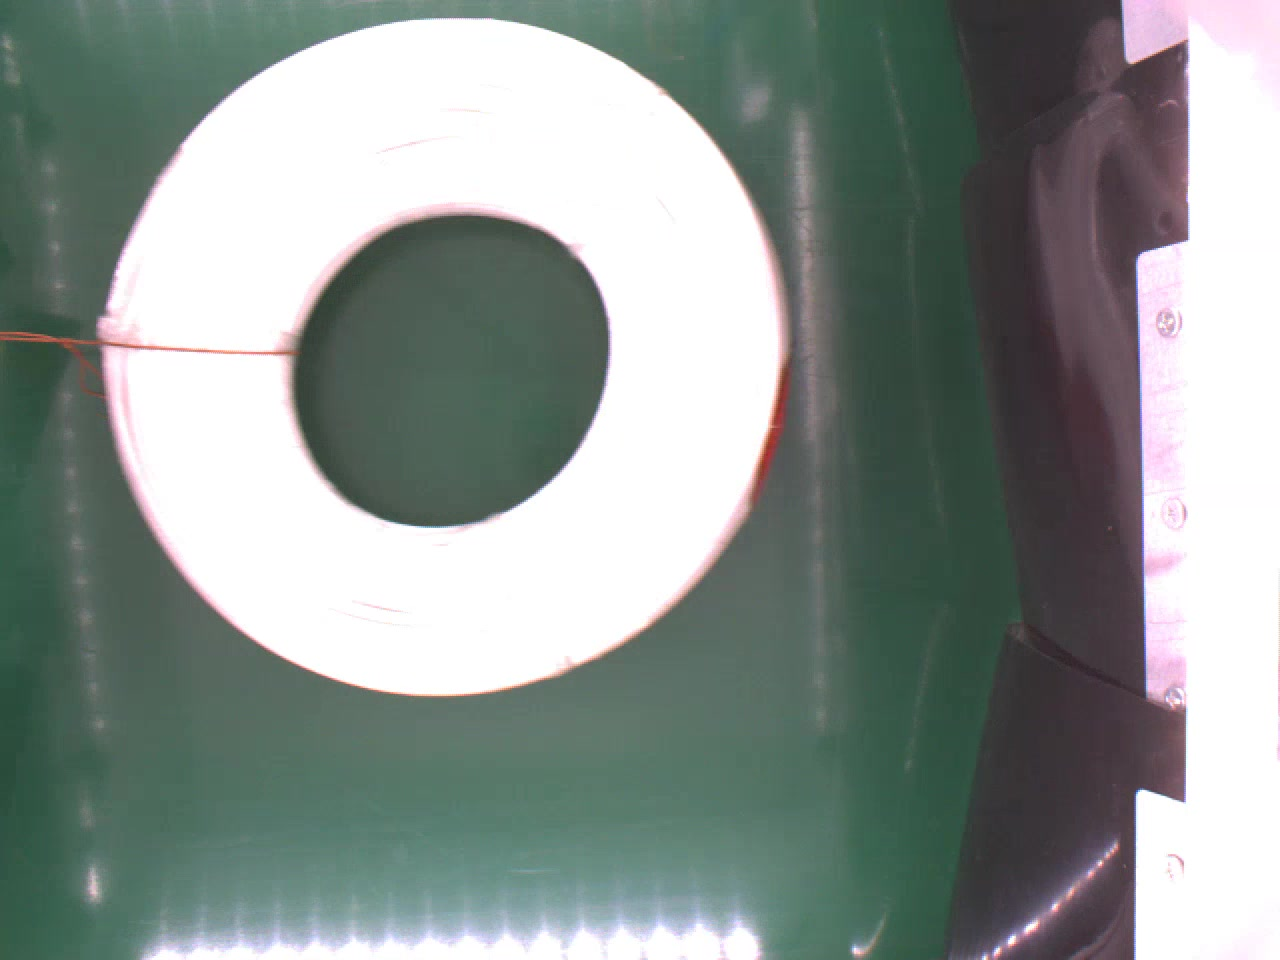white: (104, 18, 785, 690)
